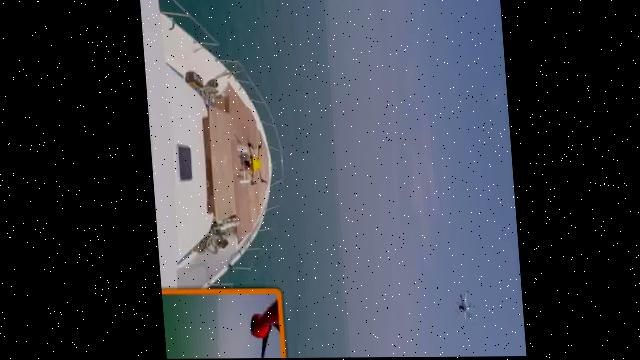drone: (237, 134, 276, 189)
